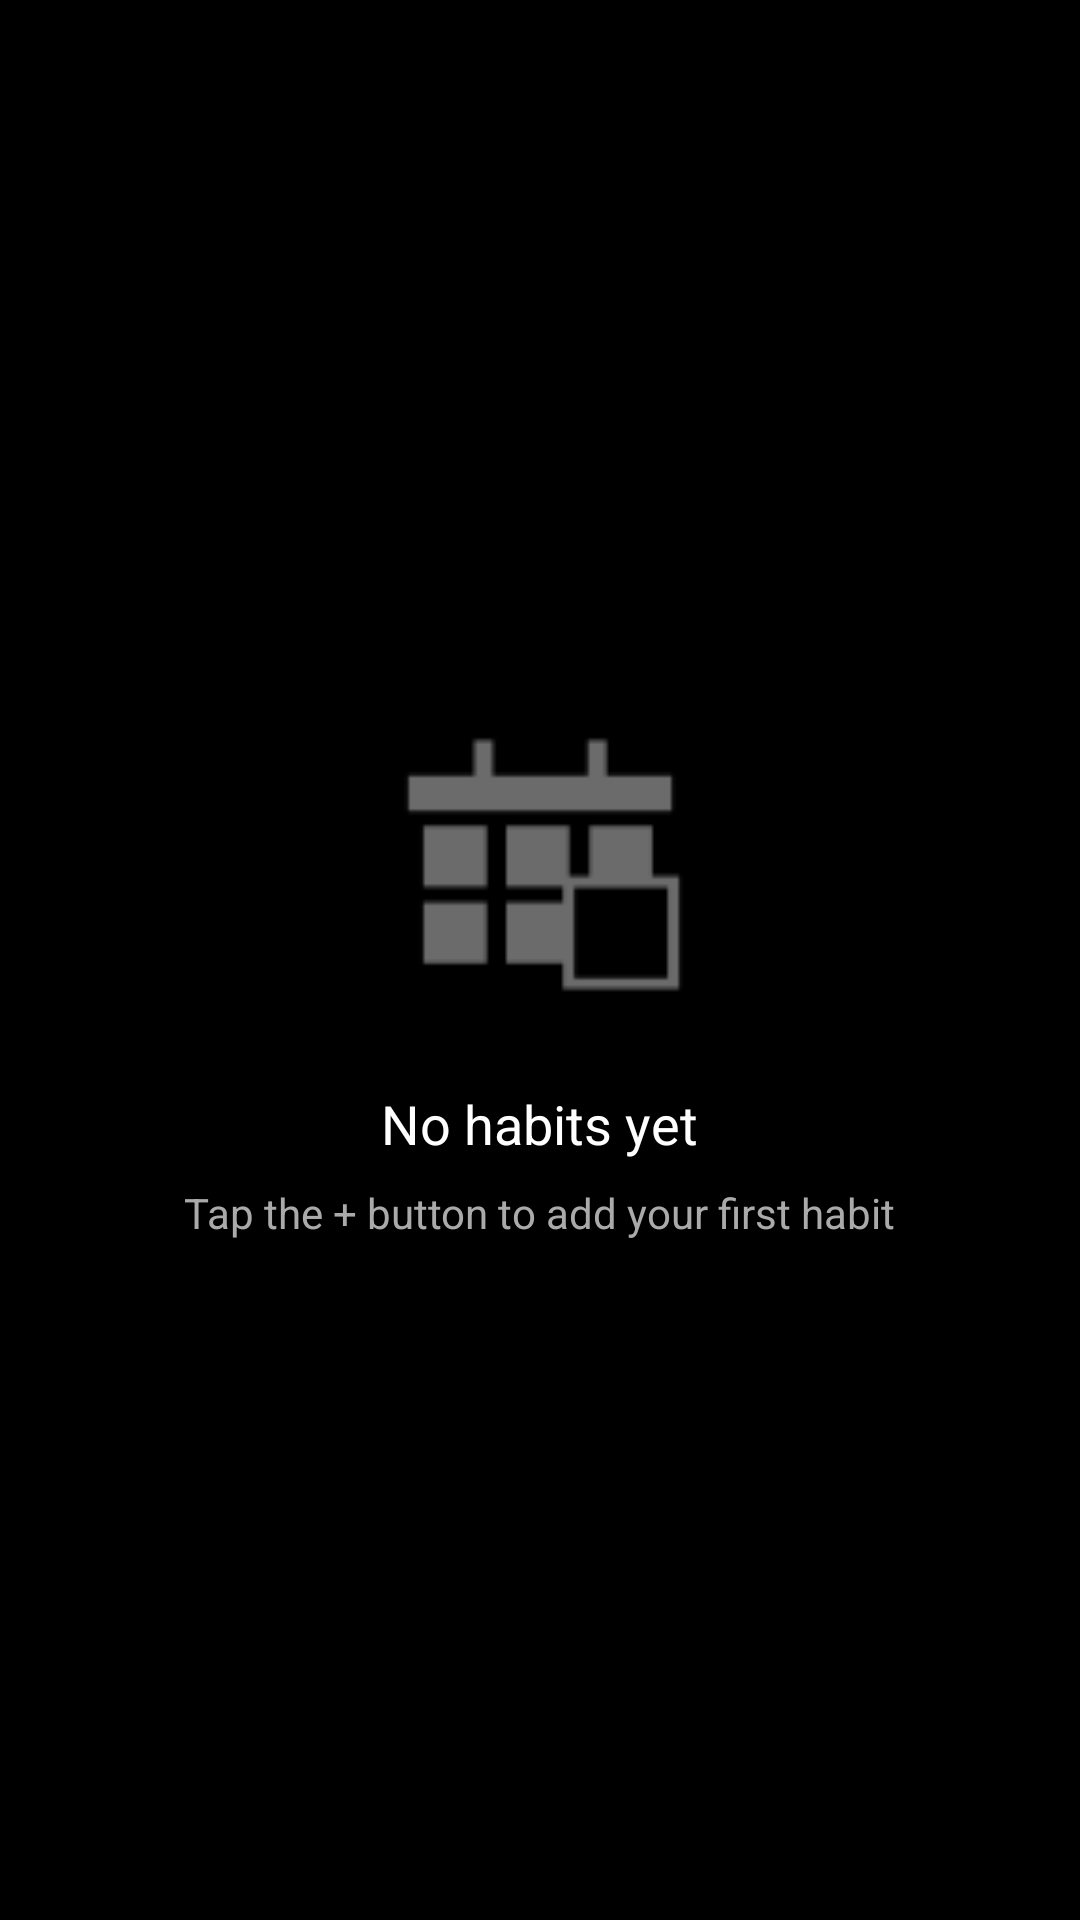

Named icons in this screenshot (1080×1920) and their bounding boxes, (x1,y1,x2,y2):
today: (407,739,680,991)
